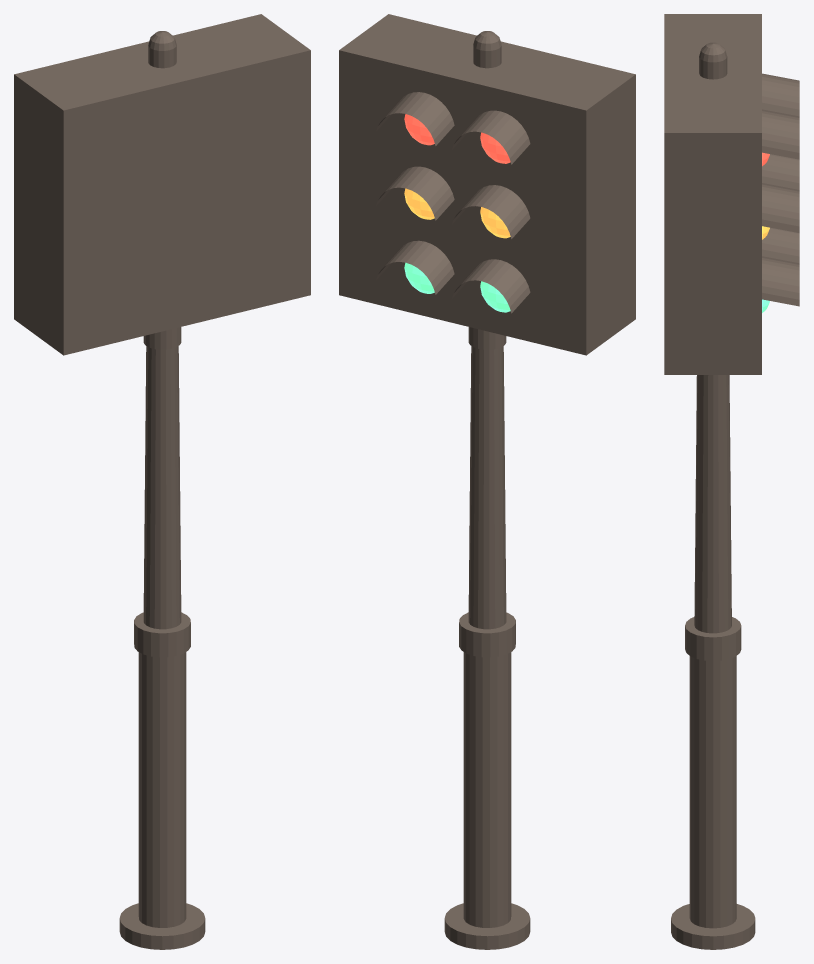
File: 35-traffic-light-bs1.glb
3 renders of one model, left to right at view 1: azimuth 30°, elevation 25°; view 2: azimuth 150°, elevation 25°; view 3: azimuth 270°, elevation 25°, orthographic.
Parts seen in each view (by area): view 1: Housing, PoleLower, PoleUpper, BaseFlange, CollarRing, Neck; view 2: Housing, PoleLower, PoleUpper, BaseFlange, CollarRing, Hood_green_-0.23, Hood_red_+0.23, Hood_red_-0.23, Hood_orange_-0.23, Hood_green_+0.23, Hood_orange_+0.23, Neck; view 3: Housing, PoleLower, PoleUpper, BaseFlange, CollarRing, Hood_orange_+0.23, Hood_red_+0.23, Hood_green_+0.23, Hood_red_-0.23, Hood_orange_-0.23, Hood_green_-0.23, CapNub (+1 smaller).
Boxes of the visible parts, <box> form: Housing: <box>14,14,310,355</box>; PoleLower: <box>138,652,186,927</box>; PoleUpper: <box>143,346,181,629</box>; BaseFlange: <box>119,903,205,949</box>; CollarRing: <box>134,612,190,657</box>; Neck: <box>143,327,181,349</box>; Housing: <box>339,14,635,355</box>; PoleLower: <box>463,652,511,927</box>; PoleUpper: <box>468,346,506,629</box>; BaseFlange: <box>444,903,530,949</box>; CollarRing: <box>459,612,515,657</box>; Hood_green_-0.23: <box>452,259,530,313</box>; Hood_red_+0.23: <box>376,92,454,145</box>; Hood_red_-0.23: <box>452,110,530,164</box>; Hood_orange_-0.23: <box>452,185,530,238</box>; Hood_green_+0.23: <box>376,240,454,294</box>; Hood_orange_+0.23: <box>376,166,454,220</box>; Neck: <box>468,327,506,349</box>; Housing: <box>664,14,761,374</box>; PoleLower: <box>689,656,736,928</box>; PoleUpper: <box>694,375,731,633</box>; BaseFlange: <box>671,904,755,949</box>; CollarRing: <box>685,617,741,661</box>; Hood_orange_+0.23: <box>762,183,799,232</box>; Hood_red_+0.23: <box>762,110,799,159</box>; Hood_green_+0.23: <box>762,257,799,306</box>; Hood_red_-0.23: <box>762,73,799,116</box>; Hood_orange_-0.23: <box>762,154,799,190</box>; Hood_green_-0.23: <box>762,227,799,263</box>; CapNub: <box>699,57,727,79</box>.
Size of the model in its own units: 1.5 by 5.21 by 0.72.
